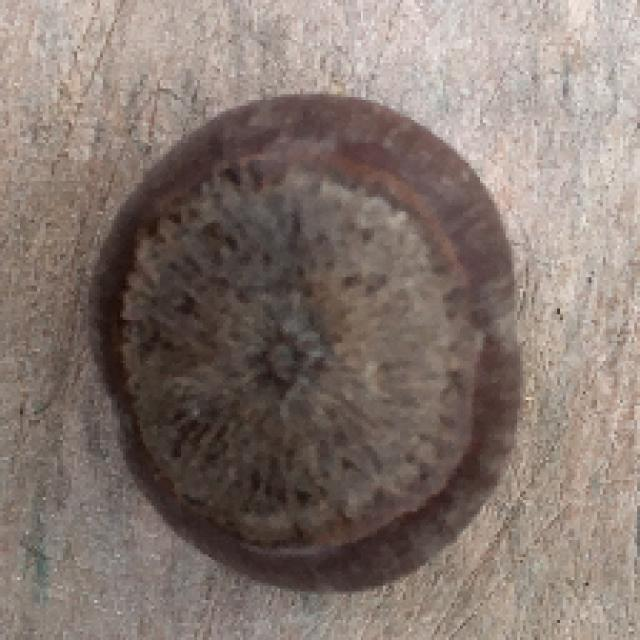damagedHazelnut: (84, 91, 532, 595)
